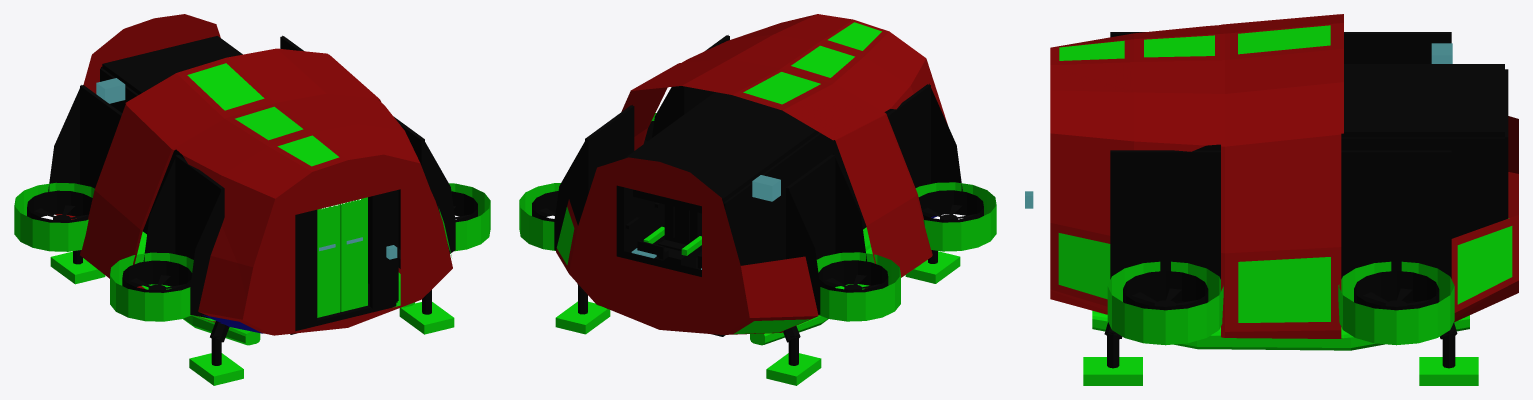
File: skimmer.glb
3 renders of one model, left to right at view 1: azimuth 30°, elevation 25°; view 2: azimuth 150°, elevation 25°; view 3: azimuth 270°, elevation 25°, orthographic. The views are drawn at different scales.
Visible parts, largest first — view 1: expedition_skimmer:lifting_body, expedition_skimmer:fan_recess_backing_-1_1.65, expedition_skimmer:room_eva, expedition_skimmer:fan_housing_-1_1, expedition_skimmer:fan_recess_backing_-1_-1.65, expedition_skimmer:service_panels_0, expedition_skimmer:fan_housing_-1_0, expedition_skimmer:ceiling_bridge, expedition_skimmer:door_eva-outer_1, expedition_skimmer:door_eva-outer_-1, expedition_skimmer:fan_housing_1_1, expedition_skimmer:fan_recess_backing_1_1.65 (+6 smaller); view 2: expedition_skimmer:lifting_body, expedition_skimmer:ceiling_bridge, expedition_skimmer:room_bridge, expedition_skimmer:fan_recess_backing_-1_-1.65, expedition_skimmer:fan_housing_-1_0, expedition_skimmer:fan_recess_backing_-1_1.65, expedition_skimmer:service_panels_0, expedition_skimmer:fan_housing_-1_1, expedition_skimmer:fan_recess_backing_1_-1.65, expedition_skimmer:seat_1, expedition_skimmer:fan_housing_1_0, expedition_skimmer:fan_recess_backing_1_1.65 (+6 smaller); view 3: expedition_skimmer:lifting_body, expedition_skimmer:service_panels_0, expedition_skimmer:fan_recess_backing_1_-1.65, expedition_skimmer:fan_recess_backing_1_1.65, expedition_skimmer:ceiling_bridge, expedition_skimmer:fan_housing_1_0, expedition_skimmer:fan_housing_1_1, expedition_skimmer:room_bridge, expedition_skimmer:fan_recess_backing_-1_-1.65, expedition_skimmer:lower_skid_cheek_1, expedition_skimmer:gear_1, expedition_skimmer:gear_3 (+3 smaller).
Part boxes in pixels (left/top/right/bottom): expedition_skimmer:lifting_body: left=55, top=14, right=452, bottom=335; expedition_skimmer:fan_recess_backing_-1_1.65: left=143, top=154, right=224, bottom=318; expedition_skimmer:room_eva: left=290, top=190, right=398, bottom=334; expedition_skimmer:fan_housing_-1_1: left=110, top=252, right=193, bottom=321; expedition_skimmer:fan_recess_backing_-1_-1.65: left=48, top=85, right=122, bottom=216; expedition_skimmer:service_panels_0: left=187, top=63, right=451, bottom=333; expedition_skimmer:fan_housing_-1_0: left=14, top=182, right=94, bottom=251; expedition_skimmer:ceiling_bridge: left=102, top=36, right=242, bottom=94; expedition_skimmer:door_eva-outer_1: left=340, top=197, right=367, bottom=311; expedition_skimmer:door_eva-outer_-1: left=317, top=204, right=340, bottom=317; expedition_skimmer:fan_housing_1_1: left=449, top=183, right=490, bottom=251; expedition_skimmer:fan_recess_backing_1_1.65: left=393, top=116, right=455, bottom=253; expedition_skimmer:lifting_body: left=556, top=14, right=947, bottom=334; expedition_skimmer:ceiling_bridge: left=624, top=92, right=818, bottom=202; expedition_skimmer:room_bridge: left=616, top=132, right=835, bottom=336; expedition_skimmer:fan_recess_backing_-1_-1.65: left=786, top=153, right=866, bottom=314; expedition_skimmer:fan_housing_-1_0: left=816, top=252, right=900, bottom=321; expedition_skimmer:fan_recess_backing_-1_1.65: left=886, top=83, right=962, bottom=217; expedition_skimmer:service_panels_0: left=556, top=22, right=937, bottom=334; expedition_skimmer:fan_housing_-1_1: left=915, top=182, right=996, bottom=251; expedition_skimmer:fan_recess_backing_1_-1.65: left=554, top=105, right=634, bottom=250; expedition_skimmer:seat_1: left=643, top=204, right=701, bottom=268; expedition_skimmer:fan_housing_1_0: left=519, top=183, right=560, bottom=250; expedition_skimmer:fan_recess_backing_1_1.65: left=652, top=35, right=729, bottom=137; expedition_skimmer:lifting_body: left=1050, top=14, right=1518, bottom=338; expedition_skimmer:service_panels_0: left=1058, top=25, right=1512, bottom=322; expedition_skimmer:fan_recess_backing_1_-1.65: left=1341, top=150, right=1451, bottom=305; expedition_skimmer:fan_recess_backing_1_1.65: left=1110, top=150, right=1220, bottom=305; expedition_skimmer:ceiling_bridge: left=1341, top=64, right=1504, bottom=137; expedition_skimmer:fan_housing_1_0: left=1338, top=261, right=1454, bottom=345; expedition_skimmer:fan_housing_1_1: left=1107, top=261, right=1223, bottom=345; expedition_skimmer:room_bridge: left=1341, top=69, right=1508, bottom=238; expedition_skimmer:fan_recess_backing_-1_-1.65: left=1344, top=32, right=1451, bottom=63; expedition_skimmer:lower_skid_cheek_1: left=1092, top=310, right=1469, bottom=350; expedition_skimmer:gear_1: left=1419, top=330, right=1478, bottom=385; expedition_skimmer:gear_3: left=1083, top=330, right=1142, bottom=385.
Bounding box in the file's own units: 7.36 × 4.2 × 7.06.
